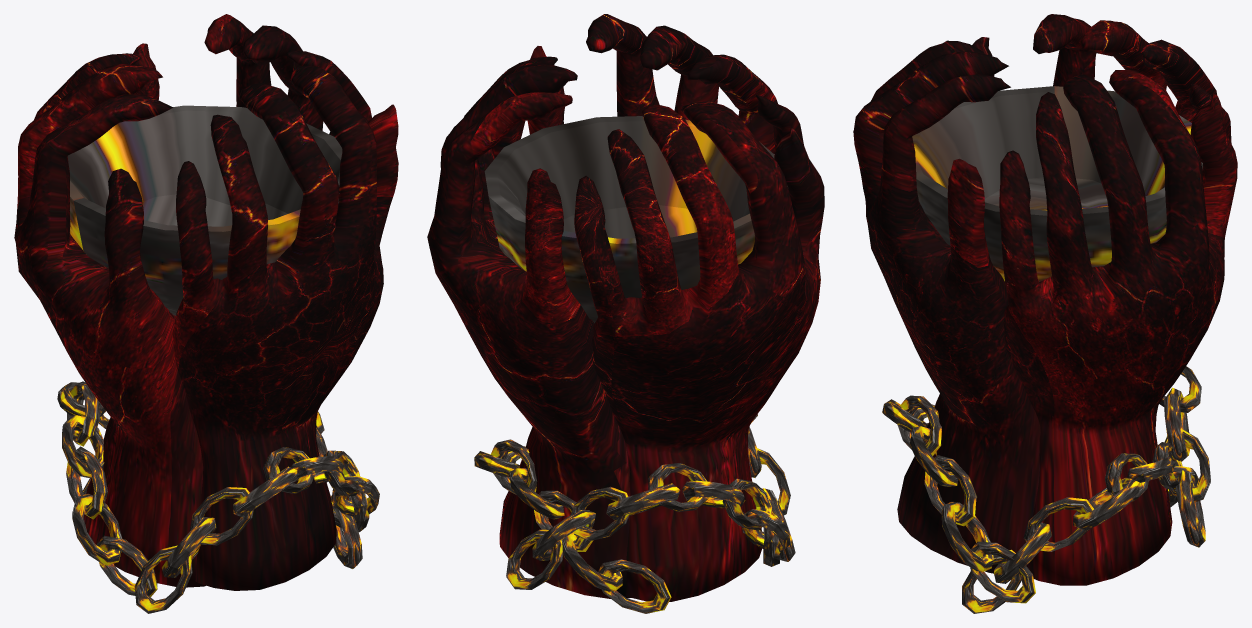
The model's file is Close_Caliz.fbx.
The picture shows the model from 3 angles, left to right: view 1: azimuth 30°, elevation 25°; view 2: azimuth 150°, elevation 25°; view 3: azimuth 270°, elevation 25°; orthographic projection. The views are drawn at different scales.
Parts seen in each view (by area): view 1: PolySphere.003, Sphere.007, Torus.004; view 2: PolySphere.003, Sphere.007, Torus.004; view 3: PolySphere.003, Sphere.007, Torus.004.
Part boxes in pixels (x1,y1,x2,y2): PolySphere.003: (14, 14, 398, 590); Sphere.007: (67, 105, 342, 315); Torus.004: (57, 381, 379, 613); PolySphere.003: (427, 14, 824, 601); Sphere.007: (484, 116, 787, 323); Torus.004: (474, 414, 795, 613); PolySphere.003: (853, 14, 1237, 585); Sphere.007: (912, 86, 1202, 281); Torus.004: (882, 366, 1210, 613).
Bounding box in the file's own units: 89.03 × 127 × 84.91.
